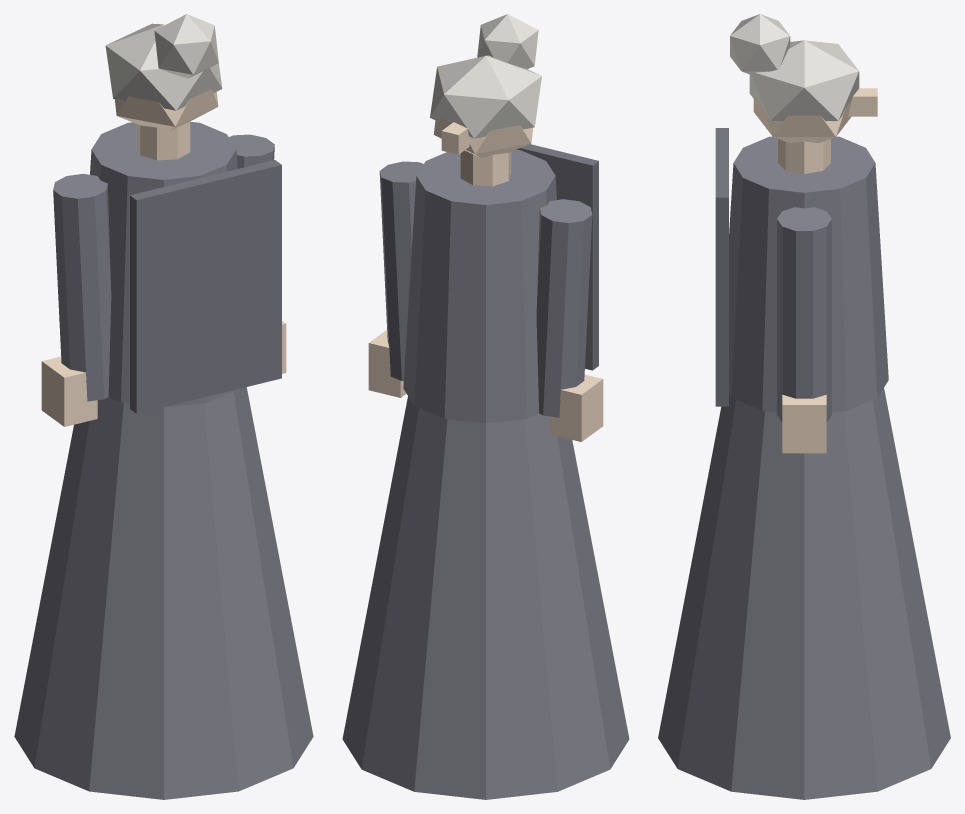
The model's file is elder_woman.glb.
The picture shows the model from 3 angles, left to right: view 1: azimuth 30°, elevation 25°; view 2: azimuth 150°, elevation 25°; view 3: azimuth 270°, elevation 25°; orthographic projection. The views are drawn at different scales.
Parts seen in each view (by area): view 1: elder_woman; view 2: elder_woman; view 3: elder_woman.
Boxes of the visible parts, x1,y1,x2,y2 form: elder_woman: (14,14,313,799); elder_woman: (342,14,629,799); elder_woman: (658,14,950,799).
Bounding box in the file's own units: 0.6138 × 1.67 × 0.6138.
